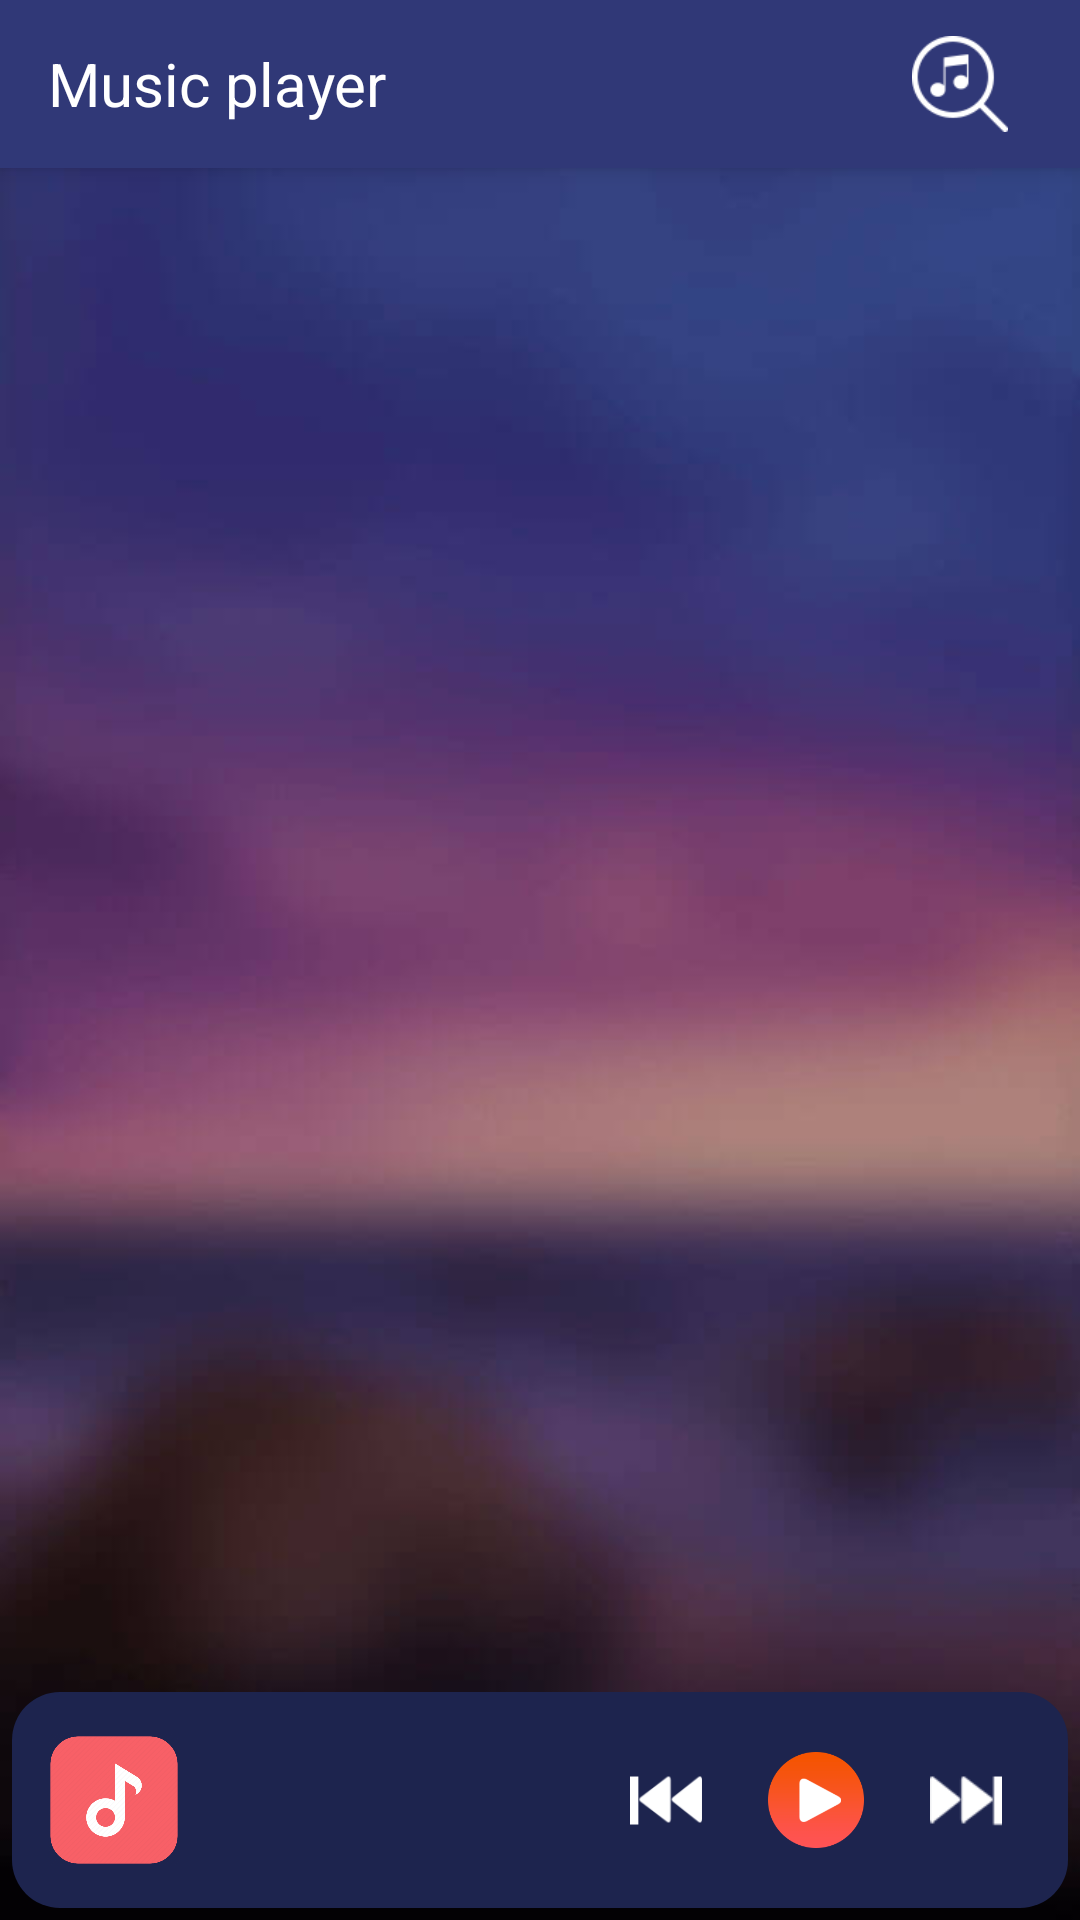

Icon bounding boxes for this 1080px×1920px phone screenshot, format box(x1, y1, x2, y2):
next widget: box(930, 1776, 1002, 1826)
play max: box(768, 1752, 864, 1848)
previous widget: box(630, 1776, 702, 1825)
scan: box(912, 36, 1008, 132)
